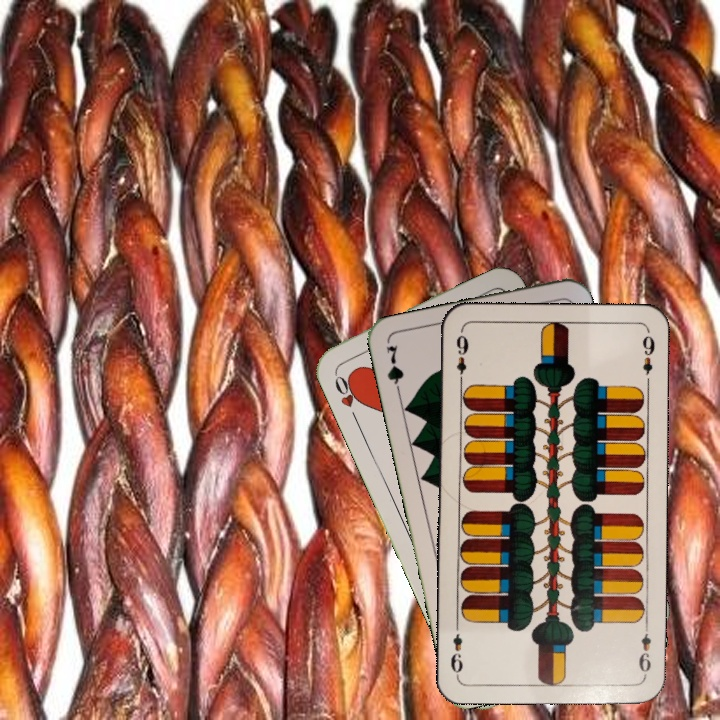E9: (452, 328, 471, 387), (635, 619, 653, 678)
G7: (382, 341, 407, 400)
HO: (330, 366, 366, 423)
